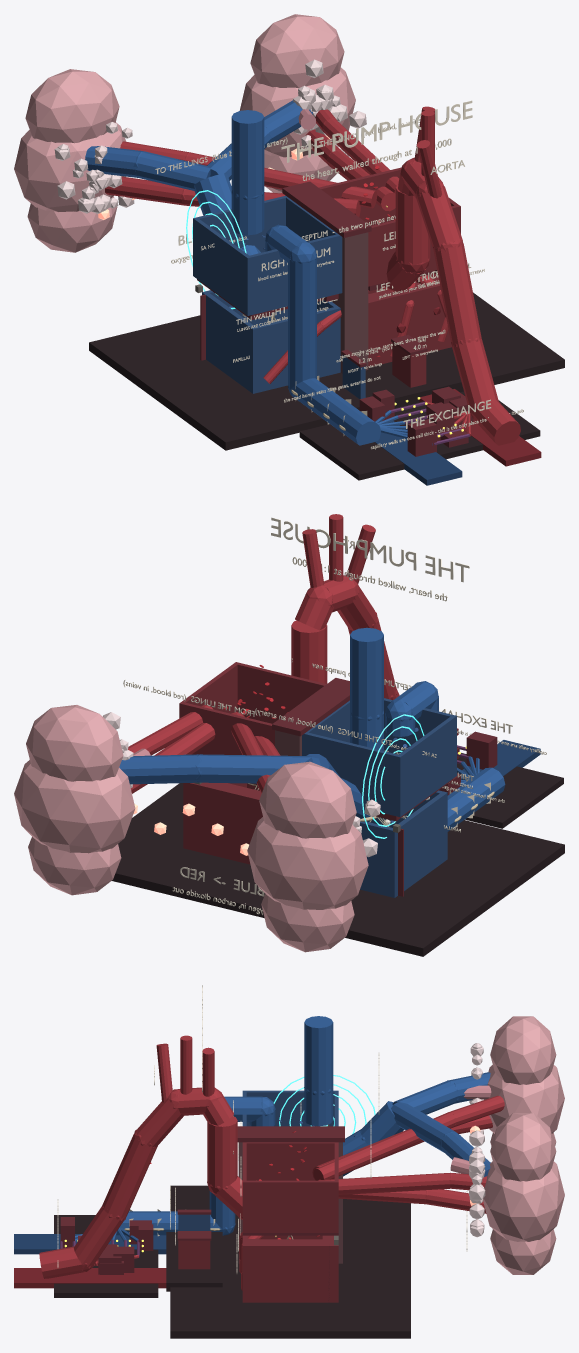
File: body-heart.glb
3 views of the same model, one above another, from view 1: azimuth 30°, elevation 25°; view 2: azimuth 150°, elevation 25°; view 3: azimuth 270°, elevation 25° (orthographic). The views are drawn at different scales.
Visible parts, largest first — view 1: Plinth, LungL_Lobe1, LungR_Lobe1, LungL_Lobe2, LV_WallS, Ex_Floor, RA_WallS, RV_WallS, IVC_2, Septum, RA_WallW, RV_WallW (+37 smaller); view 2: Plinth, LungL_Lobe2, LungR_Lobe2, LungR_Lobe1, LungL_Lobe1, LV_WallN, RA_WallN, LungR_Lobe3, LungL_Lobe3, RA_WallW, LA_WallS, RV_WallW (+28 smaller); view 3: Plinth, LA_WallE, LungR_Lobe2, LV_WallE, LungL_Lobe1, LungR_Lobe1, LA_WallW, LungL_Lobe2, Ex_Floor, SVC_1, AortaArch_4, Road_Out (+36 smaller).
Part boxes in pixels (box(x1,y1,x2,y2)): Plinth: box(89, 292, 564, 450); LungL_Lobe1: box(25, 69, 119, 143); LungR_Lobe1: box(250, 14, 344, 88); LungL_Lobe2: box(14, 122, 125, 211); LV_WallS: box(368, 277, 451, 367); Ex_Floor: box(299, 391, 540, 480); RA_WallS: box(245, 234, 342, 315); RV_WallS: box(250, 306, 340, 393); IVC_2: box(288, 256, 316, 389); Septum: box(332, 232, 368, 373); RA_WallW: box(195, 219, 248, 314); RV_WallW: box(205, 293, 253, 391); Plinth: box(112, 783, 564, 956); LungL_Lobe2: box(247, 817, 368, 909); LungR_Lobe2: box(14, 760, 135, 853); LungR_Lobe1: box(26, 705, 123, 781); LungL_Lobe1: box(259, 761, 356, 838); LV_WallN: box(183, 782, 262, 864); RA_WallN: box(302, 732, 402, 817); LungR_Lobe3: box(28, 837, 121, 895); LungL_Lobe3: box(261, 894, 354, 952); RA_WallW: box(399, 716, 454, 814); LA_WallS: box(234, 662, 326, 723); RV_WallW: box(397, 793, 444, 895); Plinth: box(170, 1185, 410, 1338); LA_WallE: box(246, 1180, 334, 1232); LungR_Lobe2: box(483, 1161, 564, 1241); LV_WallE: box(258, 1239, 322, 1302); LungL_Lobe1: box(490, 1016, 556, 1084); LungR_Lobe1: box(490, 1113, 556, 1181); LA_WallW: box(246, 1142, 334, 1180); LungL_Lobe2: box(484, 1065, 564, 1133); Ex_Floor: box(54, 1215, 158, 1297); SVC_1: box(304, 1016, 333, 1093); AortaArch_4: box(102, 1134, 156, 1218); Road_Out: box(14, 1268, 166, 1288).
Size of what is drawn, in the model's own units: 86.98 by 70 by 137.
